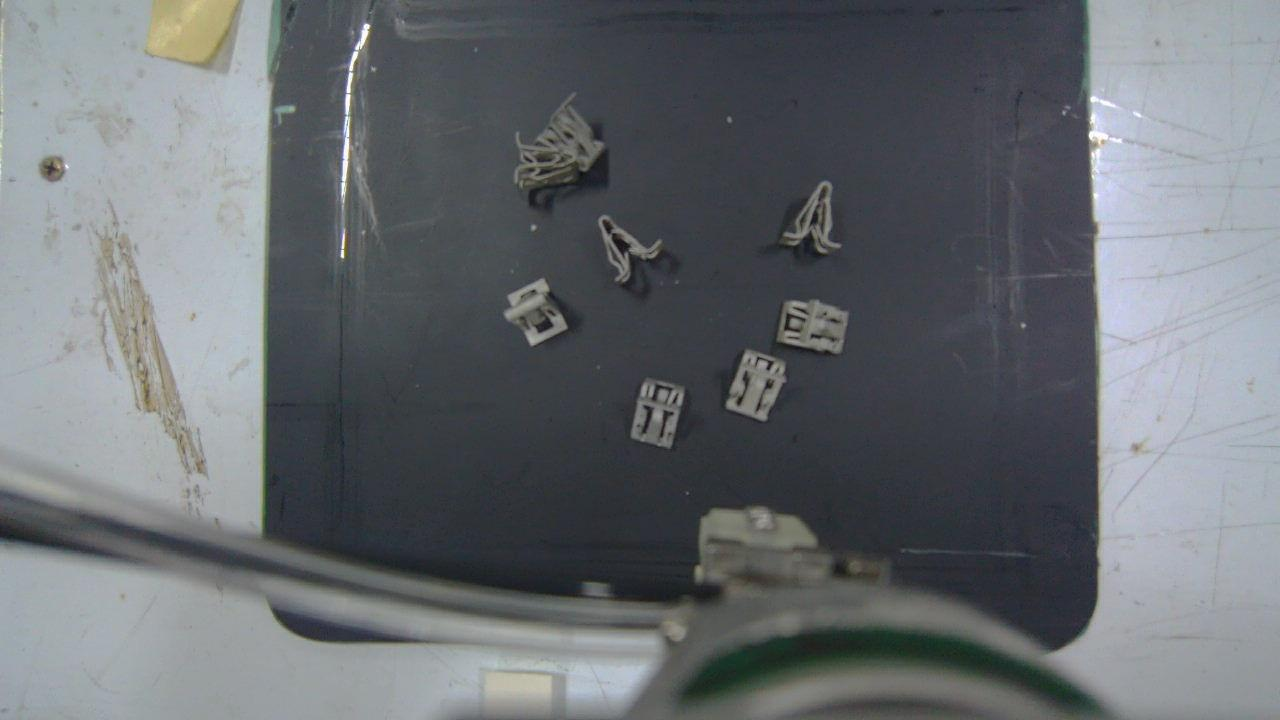ng: (538, 93, 608, 173), (597, 214, 663, 285), (726, 346, 785, 420), (783, 182, 842, 253), (630, 376, 686, 450), (775, 301, 848, 355), (516, 130, 574, 188)
pass: (505, 279, 569, 348)
